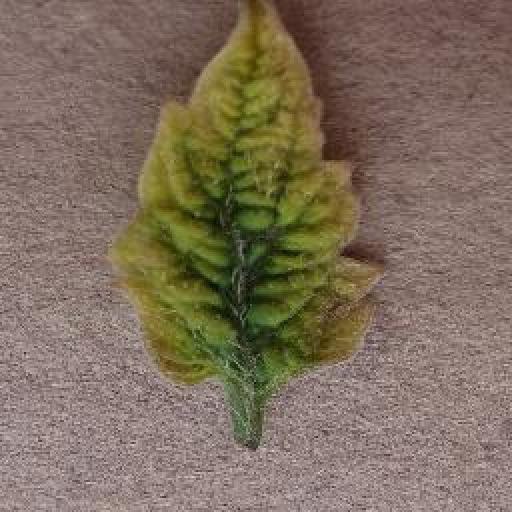disease_tomato: (111, 0, 386, 392)
